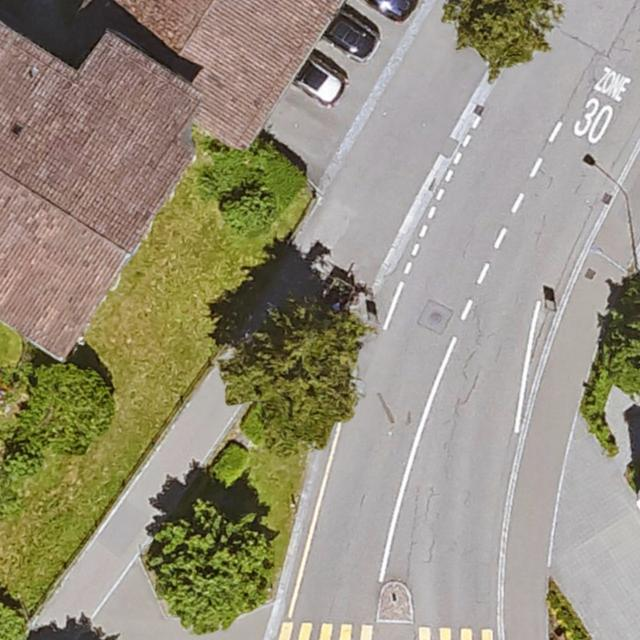tree: (225, 306, 359, 443), (151, 505, 273, 627), (18, 364, 115, 453), (449, 0, 558, 70), (607, 317, 640, 396), (223, 191, 275, 236), (0, 602, 26, 640)
